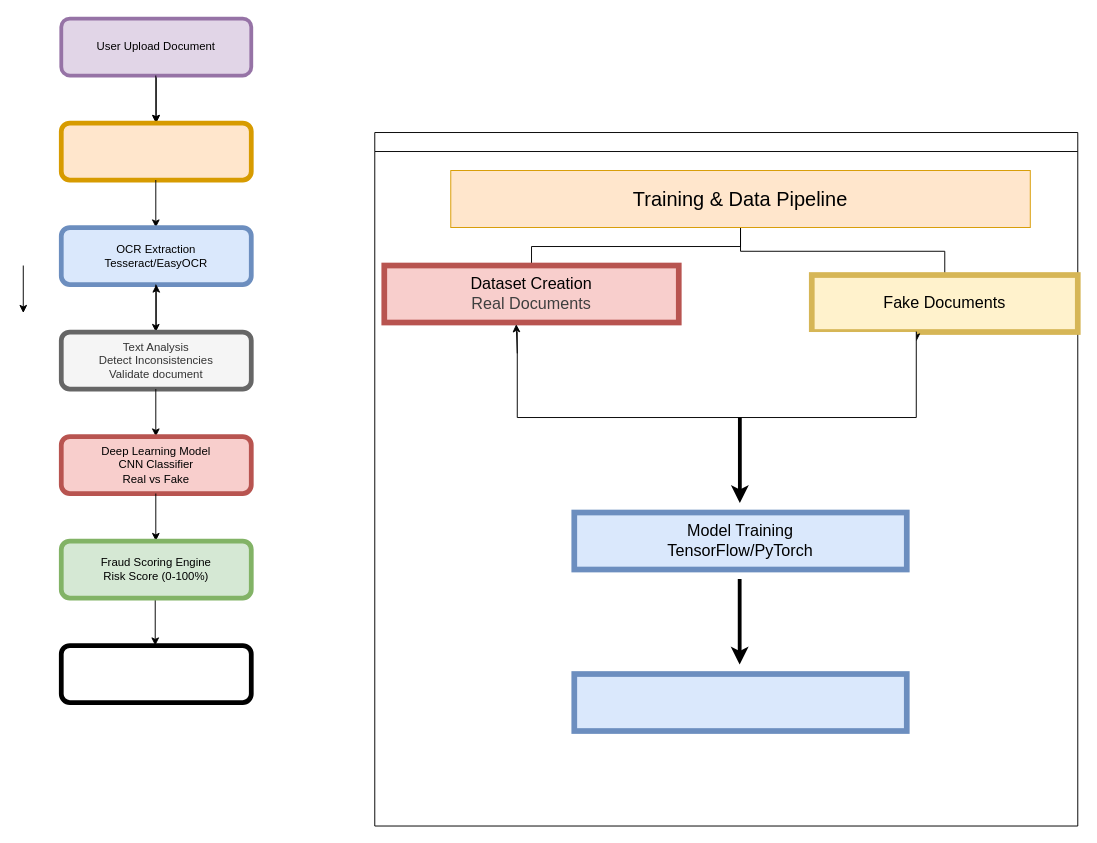
The diagram is 1097 pixels wide and 843 high, and some of its shapes have lost their labels. Here are the shapes that lost their labels. From the top down, the box of each, then its label:
(58, 120, 253, 182): Image Preprocessing Resize & Denoise
(374, 132, 1078, 826): Orgchart
(58, 643, 253, 704): Tampering Detection Anomaly Detection Graphs
(571, 671, 909, 733): Deploy to Web System
